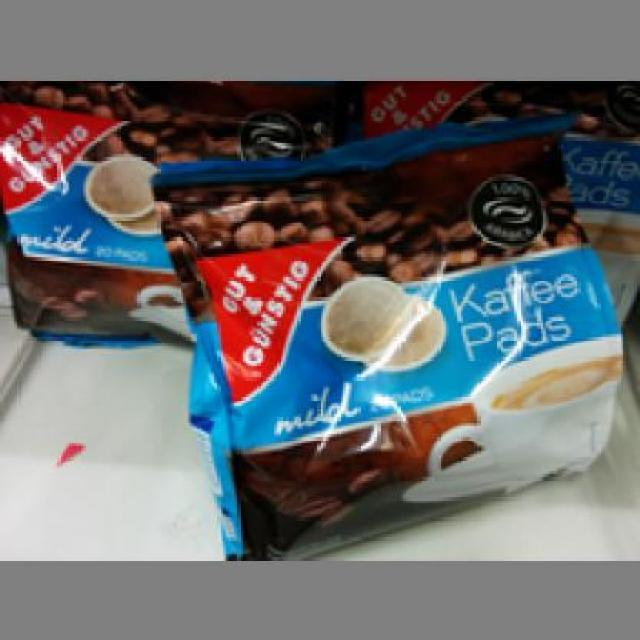Coffee: (146, 106, 628, 554)
